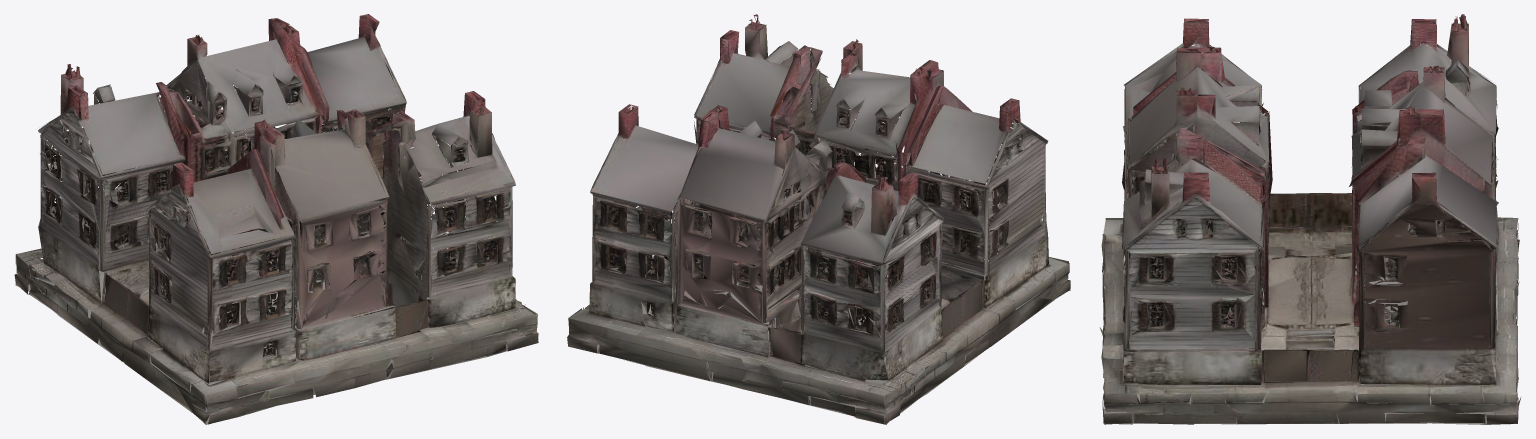
File: city-block-rear-c.glb
3 renders of one model, left to right at view 1: azimuth 30°, elevation 25°; view 2: azimuth 150°, elevation 25°; view 3: azimuth 270°, elevation 25°, orthographic. The views are drawn at different scales.
Visible parts, largest first — view 1: Mesh_0; view 2: Mesh_0; view 3: Mesh_0.
Boxes of the visible parts, x1,y1,x2,y2 form: Mesh_0: (14,14,538,424); Mesh_0: (567,14,1070,424); Mesh_0: (1099,14,1520,424).
Bounding box in the file's own units: 1.92 × 1.33 × 1.93.
1 material, 1 textured.
